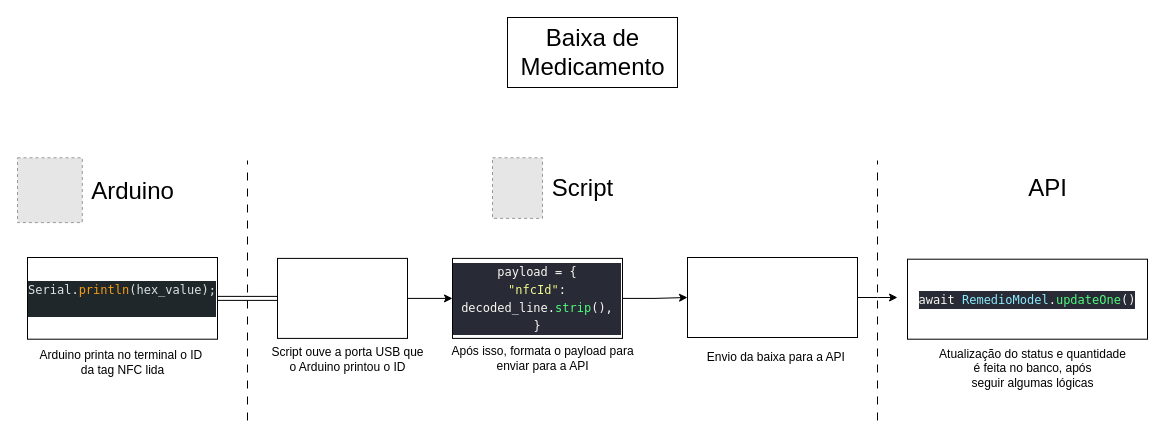
The diagram is 1165 pixels wide and 439 high, and some of its shapes have lost their labels. Grey dashed boxes stand in for pictures. The box of each missing label's shape, as (x1, y1, x2, y2) in pixels:
requests.post( URL , json = payload, headers = headers): (686, 256, 858, 338)
ser.readline(): (276, 257, 408, 338)
